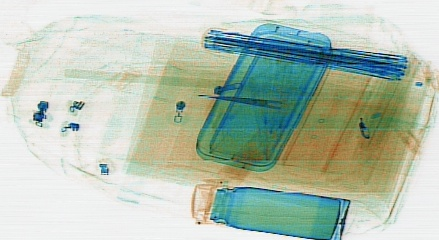scissors: (195, 92, 283, 110)
